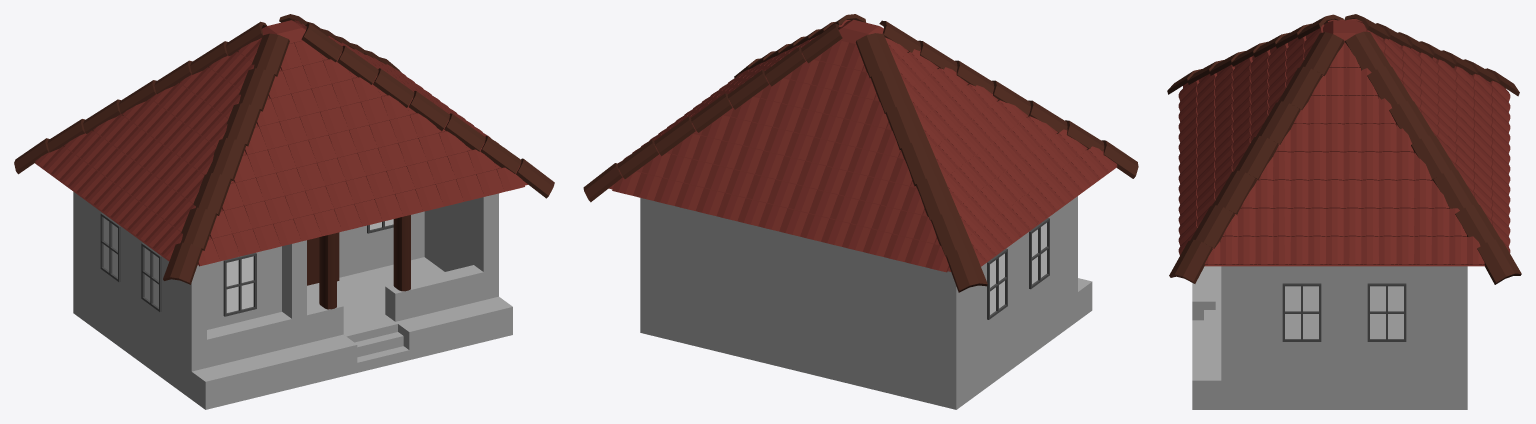
Rendered from rumah mc.fbx.
The picture shows the model from 3 angles, left to right: view 1: azimuth 30°, elevation 25°; view 2: azimuth 150°, elevation 25°; view 3: azimuth 270°, elevation 25°; orthographic projection. The views are drawn at different scales.
Parts seen in each view (by area): view 1: Plane, Plane.014, Plane.012, Plane.009, Plane.008, Plane.016, Plane.018, Plane.013, Plane.001, Plane.005, Plane.004, Plane.003 (+2 smaller); view 2: Plane, Plane.011, Plane.012, Plane.009, Plane.008, Plane.013, Plane.004, Plane.005, Plane.019, Plane.020; view 3: Plane, Plane.013, Plane.009, Plane.014, Plane.011, Plane.008, Plane.021, Plane.022, Plane.006, Plane.007.
Boxes of the visible parts, <box> form: Plane: <box>73,192,512,409</box>; Plane.014: <box>198,40,524,266</box>; Plane.012: <box>35,33,264,259</box>; Plane.009: <box>14,14,554,284</box>; Plane.008: <box>35,20,527,265</box>; Plane.016: <box>319,215,410,309</box>; Plane.018: <box>226,256,253,312</box>; Plane.013: <box>295,20,521,164</box>; Plane.001: <box>223,252,256,316</box>; Plane.005: <box>100,213,120,282</box>; Plane.004: <box>141,243,161,311</box>; Plane.003: <box>307,232,339,285</box>; Plane: <box>640,196,1092,409</box>; Plane.011: <box>612,40,948,272</box>; Plane.012: <box>882,33,1117,265</box>; Plane.009: <box>583,14,1138,292</box>; Plane.008: <box>609,19,1117,271</box>; Plane.013: <box>618,20,850,163</box>; Plane.004: <box>1029,218,1049,289</box>; Plane.005: <box>987,248,1007,319</box>; Plane.019: <box>1032,223,1046,284</box>; Plane.020: <box>990,253,1004,314</box>; Plane: <box>1192,266,1467,409</box>; Plane.013: <box>1205,39,1484,264</box>; Plane.009: <box>1167,14,1521,284</box>; Plane.014: <box>1178,24,1324,255</box>; Plane.011: <box>1364,26,1510,252</box>; Plane.008: <box>1183,20,1505,266</box>; Plane.021: <box>1285,286,1318,338</box>; Plane.022: <box>1370,286,1403,338</box>; Plane.006: <box>1367,283,1406,341</box>; Plane.007: <box>1282,283,1321,341</box>.
Size of the model in its own units: 2030 by 1459 by 1528.
